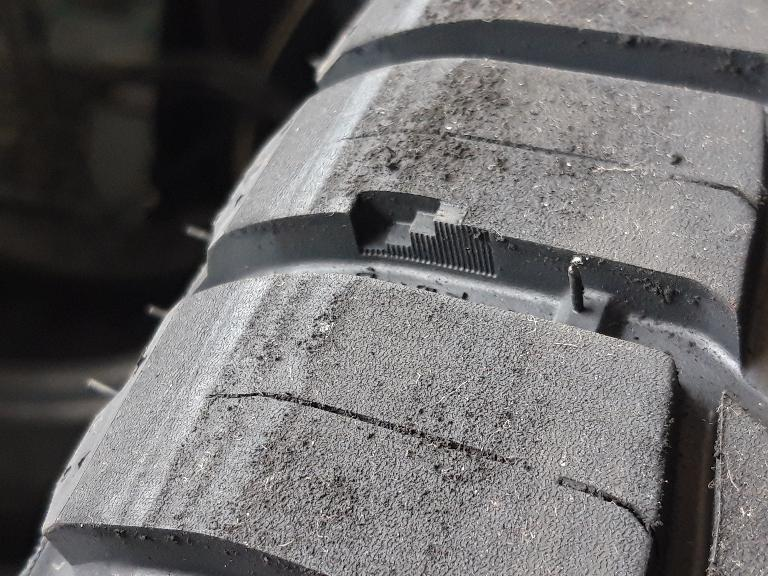temoin:75: (343, 187, 474, 272)
